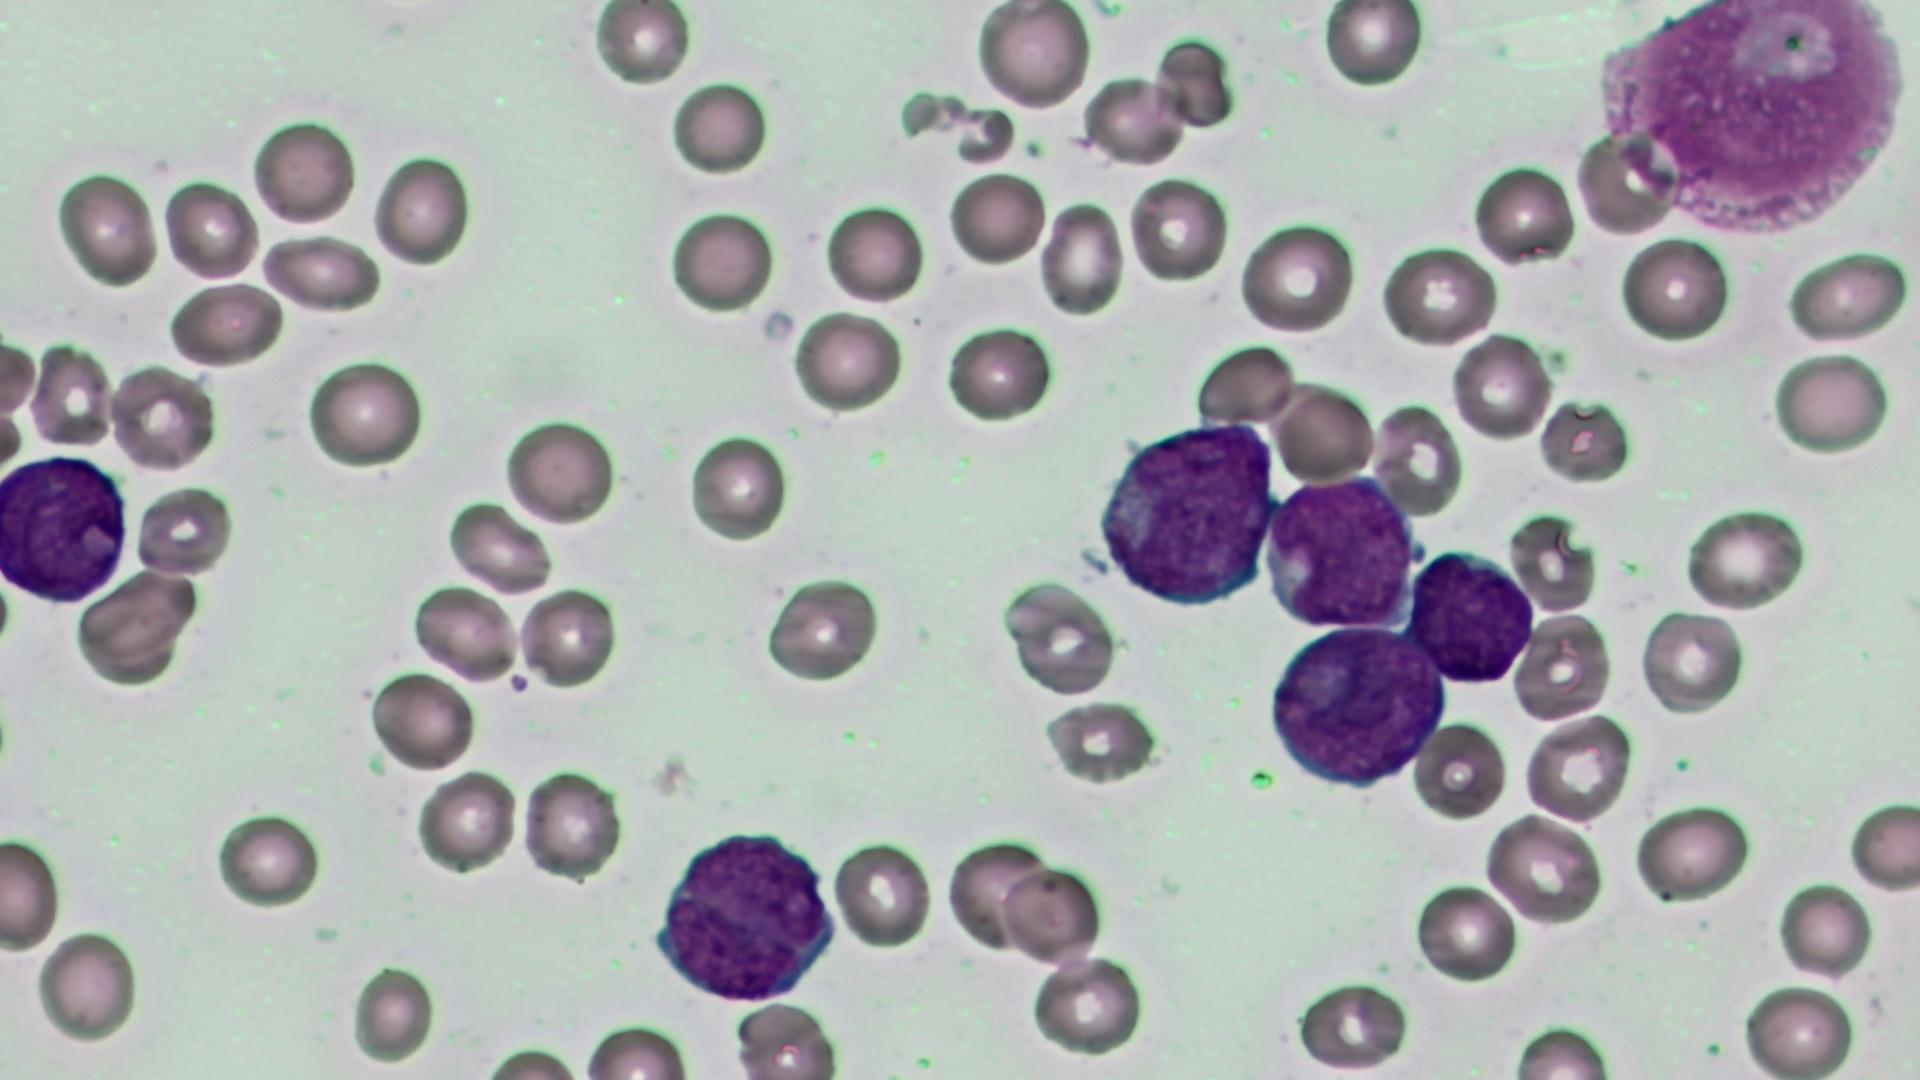RBC: (1000, 574, 1122, 702), (71, 566, 198, 686), (1780, 243, 1916, 348), (1237, 218, 1357, 336), (305, 353, 425, 472), (1484, 812, 1605, 928), (1025, 949, 1150, 1062), (944, 831, 1054, 957), (765, 574, 884, 688), (51, 166, 161, 290), (1683, 505, 1808, 613), (1377, 240, 1498, 351), (972, 1, 1089, 115), (1770, 349, 1896, 454), (32, 926, 142, 1044), (501, 414, 615, 527), (1617, 233, 1731, 345), (829, 833, 935, 955), (1634, 800, 1754, 905), (369, 148, 472, 269), (520, 766, 622, 887), (105, 361, 216, 473), (1636, 607, 1749, 717), (249, 113, 356, 228), (789, 307, 903, 414), (686, 430, 790, 547), (1294, 972, 1414, 1073), (1520, 713, 1630, 824), (942, 320, 1054, 429), (1572, 128, 1680, 239), (367, 667, 477, 775), (669, 204, 775, 316), (1412, 878, 1520, 986), (414, 769, 518, 881), (1468, 160, 1575, 266), (822, 199, 926, 309), (212, 807, 323, 910), (1126, 174, 1228, 286), (1741, 982, 1859, 1077), (517, 583, 618, 694), (1449, 332, 1551, 443), (160, 174, 261, 284), (1370, 396, 1460, 518), (1035, 196, 1125, 319), (1002, 860, 1104, 968), (411, 584, 520, 686), (1513, 612, 1610, 723), (164, 280, 282, 371), (1079, 69, 1187, 167), (344, 957, 440, 1068), (943, 166, 1044, 269), (669, 78, 770, 179), (1273, 382, 1371, 487), (1774, 880, 1874, 981), (132, 483, 233, 580), (585, 1, 694, 91), (26, 342, 115, 451), (258, 232, 377, 313), (1412, 719, 1505, 822), (1193, 340, 1299, 429), (1320, 3, 1425, 90), (1538, 396, 1636, 487), (732, 996, 837, 1077), (0, 831, 65, 953), (1846, 790, 1917, 901), (578, 1017, 691, 1077), (0, 331, 37, 433)
WBC: (1590, 0, 1913, 245), (1092, 414, 1280, 611), (651, 823, 843, 1007), (1262, 626, 1451, 794), (1261, 473, 1416, 634), (0, 448, 129, 609), (1411, 549, 1535, 692)
